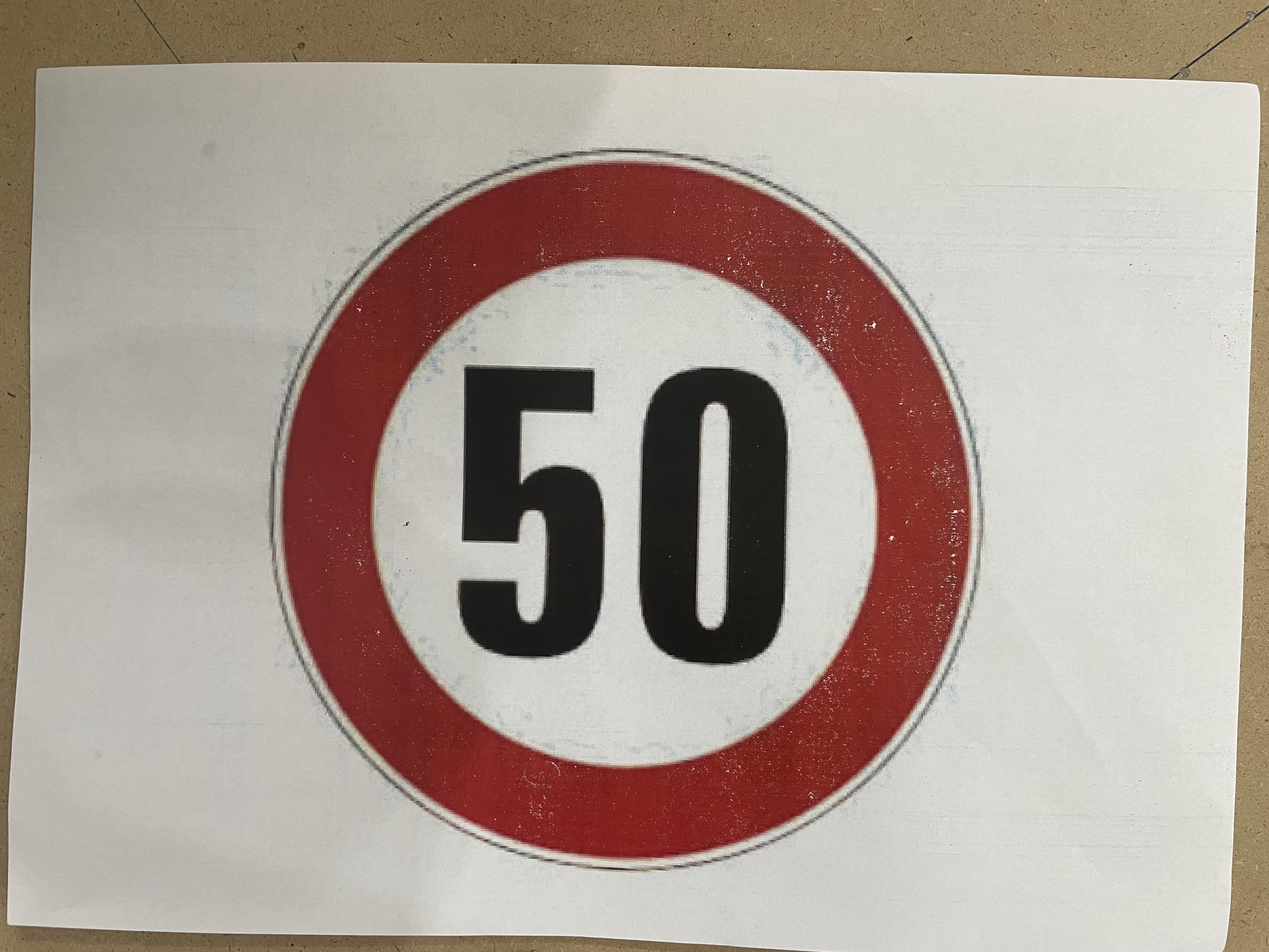50-Speed: (280, 88, 1003, 797)
